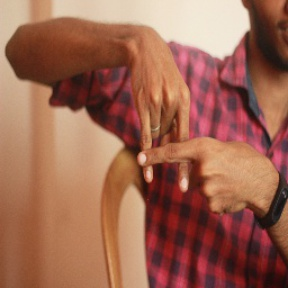H: (108, 87, 222, 203)
